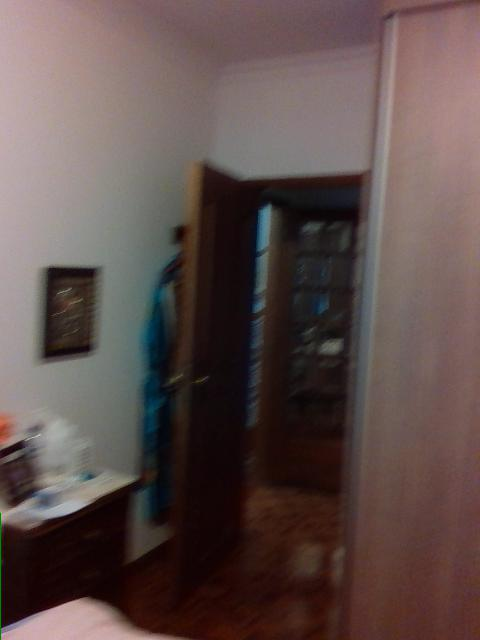door: (165, 160, 253, 602)
